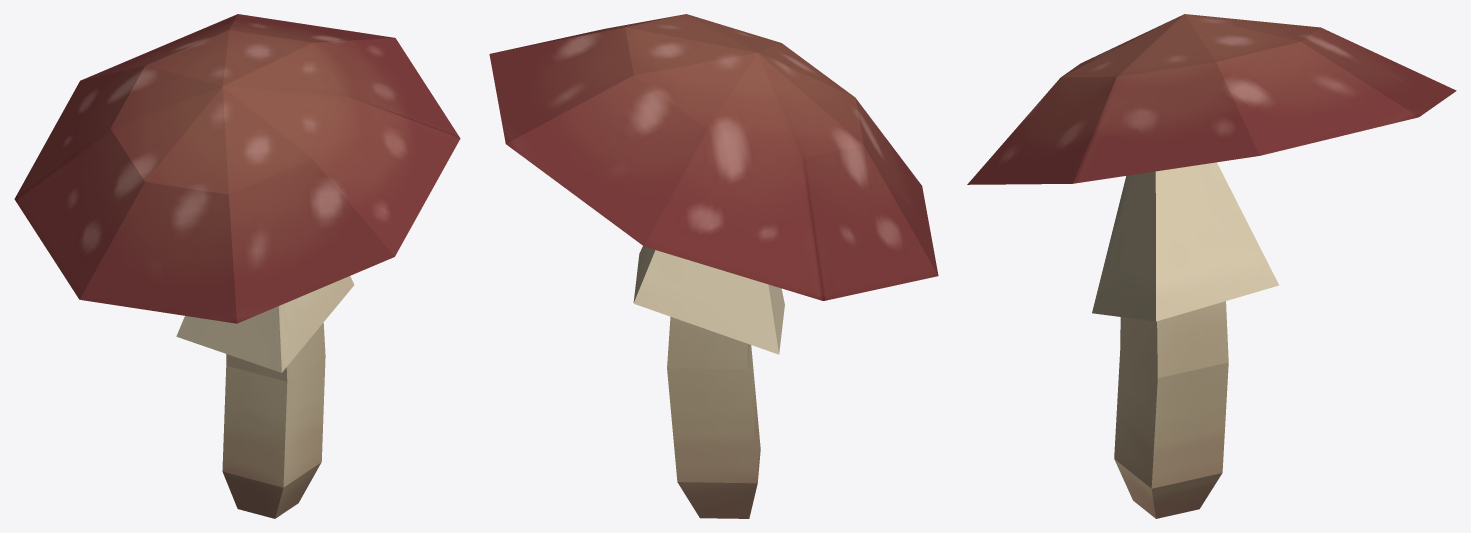
Rendered from fly-agaric-2.glb.
3 renders of one model, left to right at view 1: azimuth 30°, elevation 25°; view 2: azimuth 150°, elevation 25°; view 3: azimuth 270°, elevation 25°, orthographic. The views are drawn at different scales.
Visible parts, largest first — view 1: fly_agaric_2; view 2: fly_agaric_2; view 3: fly_agaric_2.
Part boxes in pixels (x1,y1,x2,y2): fly_agaric_2: (14,14,460,518); fly_agaric_2: (489,14,938,518); fly_agaric_2: (967,14,1456,518).
Size of the model in its own units: 2.44 by 2.8 by 2.59.
1 material, 1 textured.
